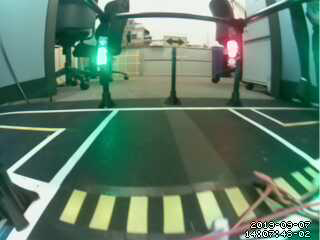Left_Right_sign: (163, 35, 188, 49)
Traffic_light_green: (99, 38, 106, 66)
Traffic_light_red: (227, 42, 239, 68)
